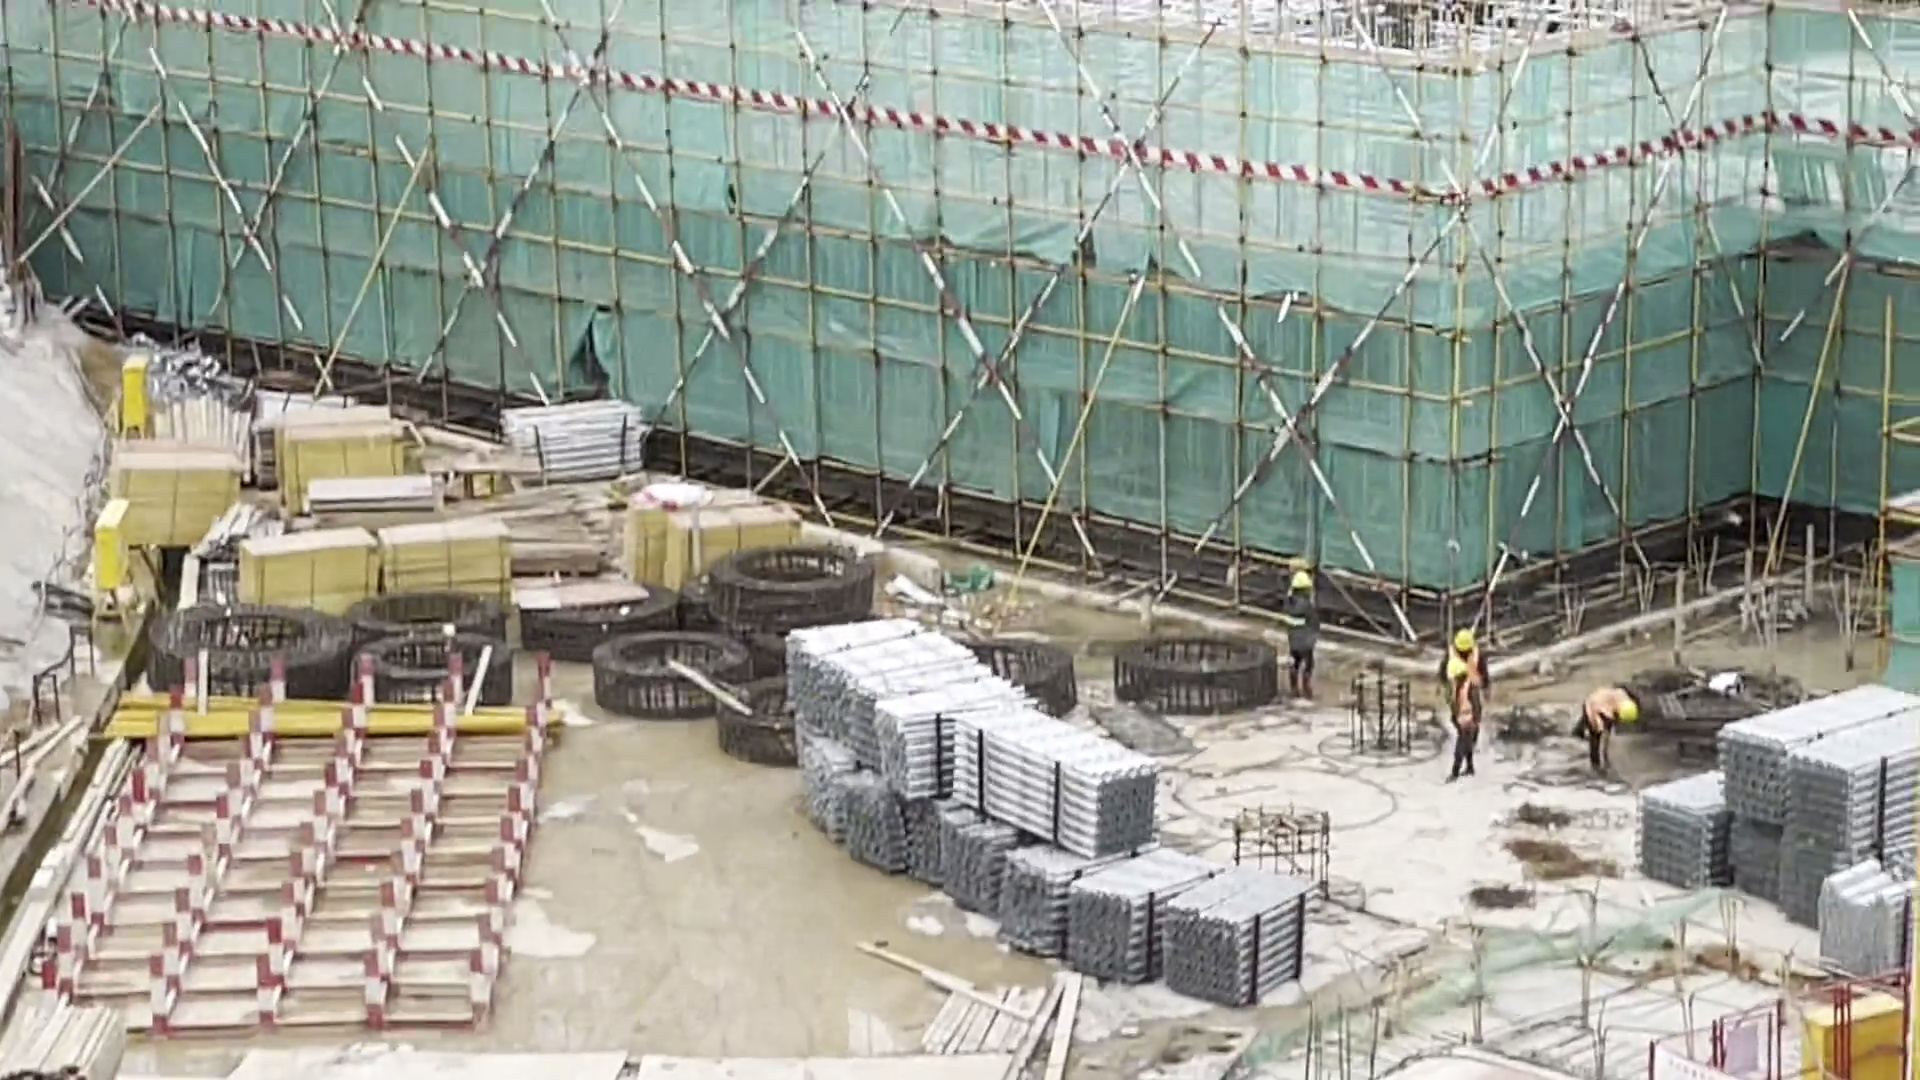board: (624, 491, 793, 595), (103, 440, 244, 553), (236, 521, 383, 614), (376, 521, 521, 598), (271, 415, 409, 493), (304, 477, 443, 527)
person: (1273, 566, 1323, 700), (1446, 641, 1490, 787), (1578, 685, 1638, 779)
scaffold: (778, 622, 1316, 1000), (1648, 688, 1920, 982)
